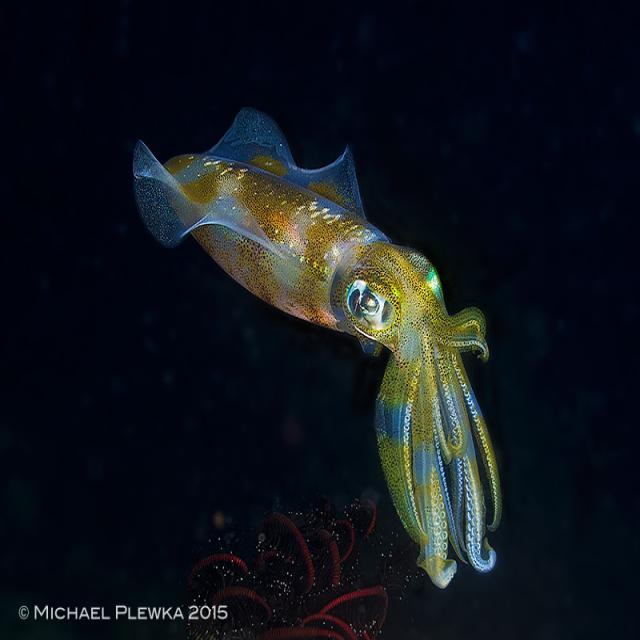SQUID: (103, 92, 629, 617)
